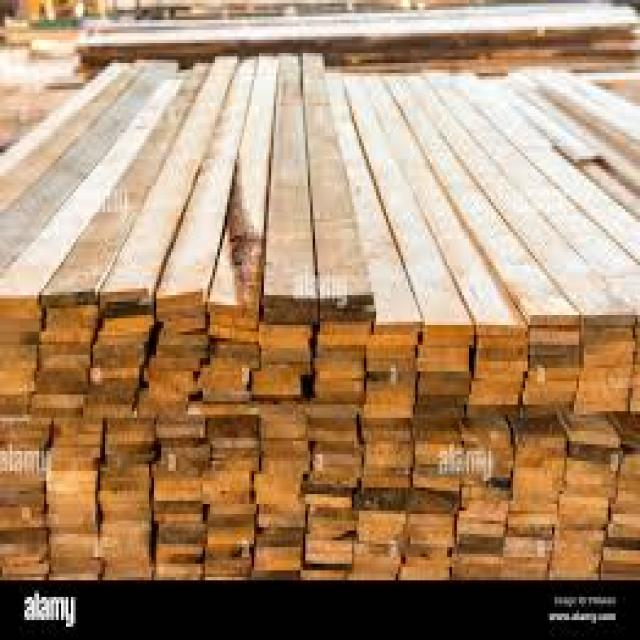perfect-wooden-plate: (0, 402, 411, 578), (405, 73, 640, 320), (417, 319, 640, 578), (385, 78, 579, 318), (0, 80, 179, 300), (43, 68, 203, 300), (1, 68, 176, 272), (77, 3, 640, 64), (370, 80, 510, 323), (103, 58, 234, 313), (346, 77, 467, 325), (157, 61, 254, 330), (328, 81, 421, 325), (210, 56, 279, 337), (304, 56, 375, 320), (264, 56, 317, 322), (1, 69, 125, 176), (535, 73, 640, 165), (90, 314, 151, 403), (419, 326, 473, 418), (0, 297, 41, 413), (315, 322, 371, 403), (200, 341, 257, 401), (364, 373, 413, 418), (40, 304, 97, 342), (262, 322, 311, 366), (367, 333, 417, 373), (157, 333, 209, 371), (149, 370, 197, 406), (317, 321, 369, 348), (253, 368, 297, 399), (211, 342, 257, 369), (31, 394, 83, 417)
